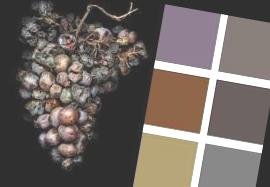Grape Rotten: (0, 0, 157, 180)
